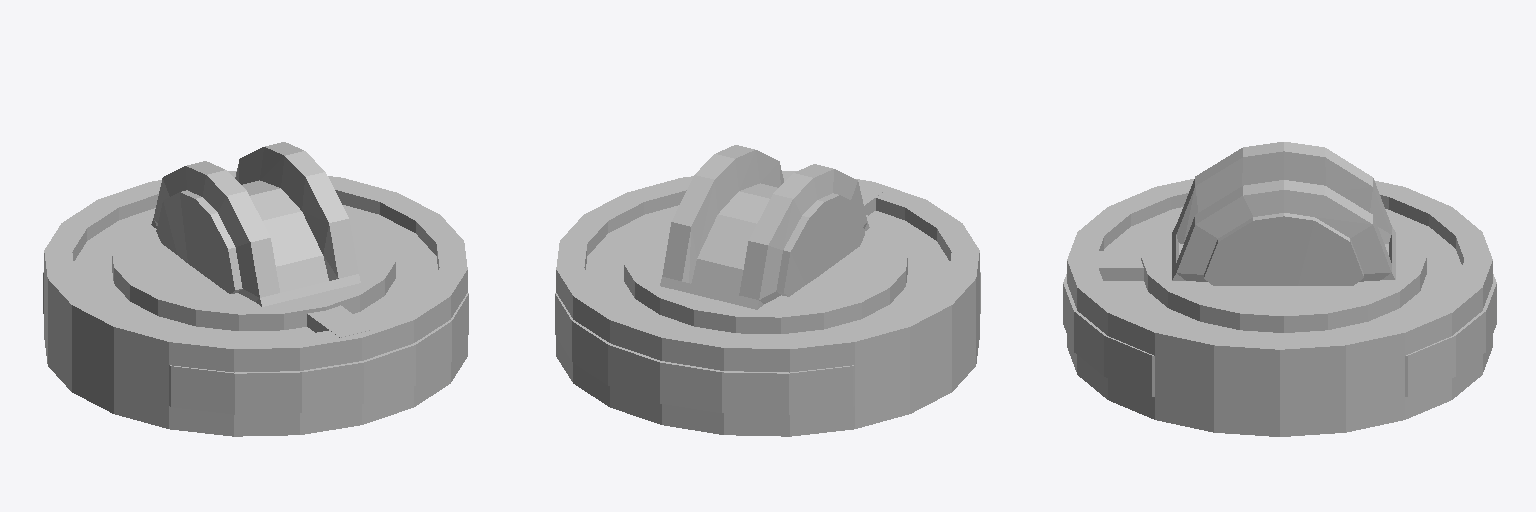
File: Roomba_01_Hammer.obj
3 views of the same model, side by side, from view 1: azimuth 30°, elevation 25°; view 2: azimuth 150°, elevation 25°; view 3: azimuth 270°, elevation 25° (orthographic).
Visible parts, largest first — view 1: pCube4; view 2: pCube4; view 3: pCube4.
Part boxes in pixels (left/top/right/bottom): pCube4: left=43, top=142, right=468, bottom=436; pCube4: left=555, top=145, right=980, bottom=436; pCube4: left=1063, top=142, right=1496, bottom=436.
Size of the model in its own units: 6.67 by 3.15 by 6.8.